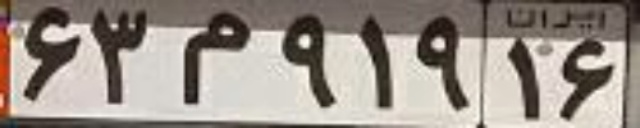1: (356, 15, 395, 107), (507, 37, 538, 119)
3: (88, 7, 149, 103)
6: (20, 5, 81, 101), (556, 39, 614, 122)
9: (279, 14, 339, 107), (415, 16, 471, 111)
mim: (178, 10, 252, 106)
